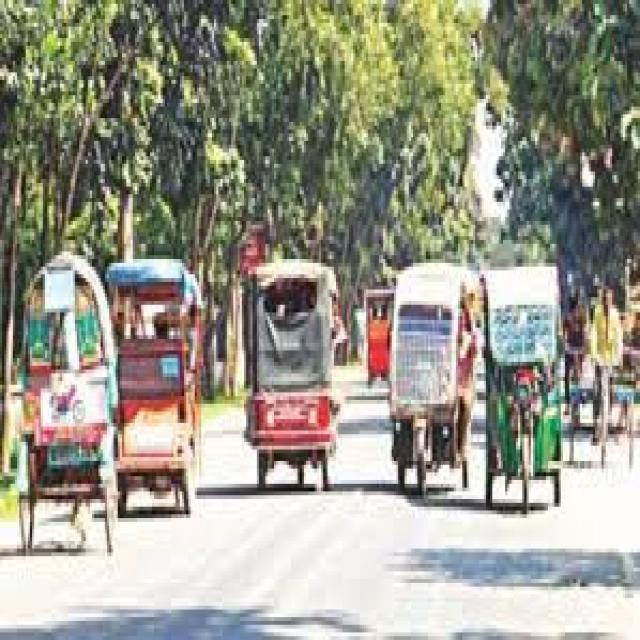person: (591, 290, 621, 465)
three wheeler: (17, 251, 116, 549), (107, 259, 199, 510), (246, 259, 334, 488), (390, 263, 475, 491), (484, 267, 559, 510)
